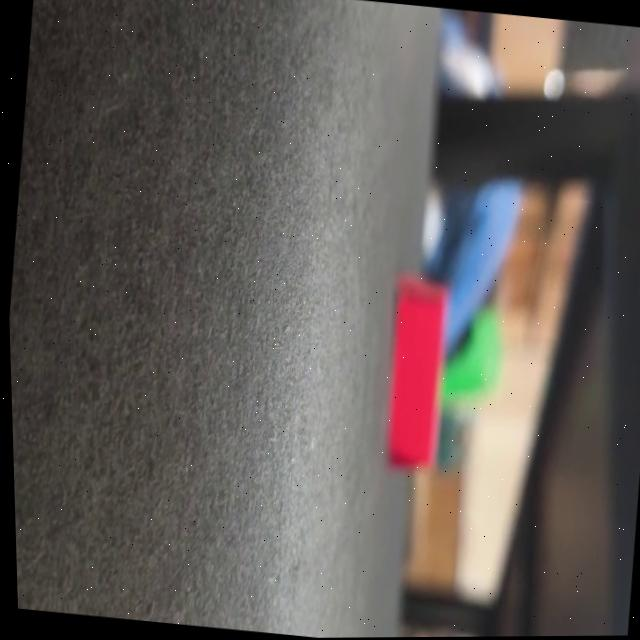red block: (376, 270, 457, 474)
